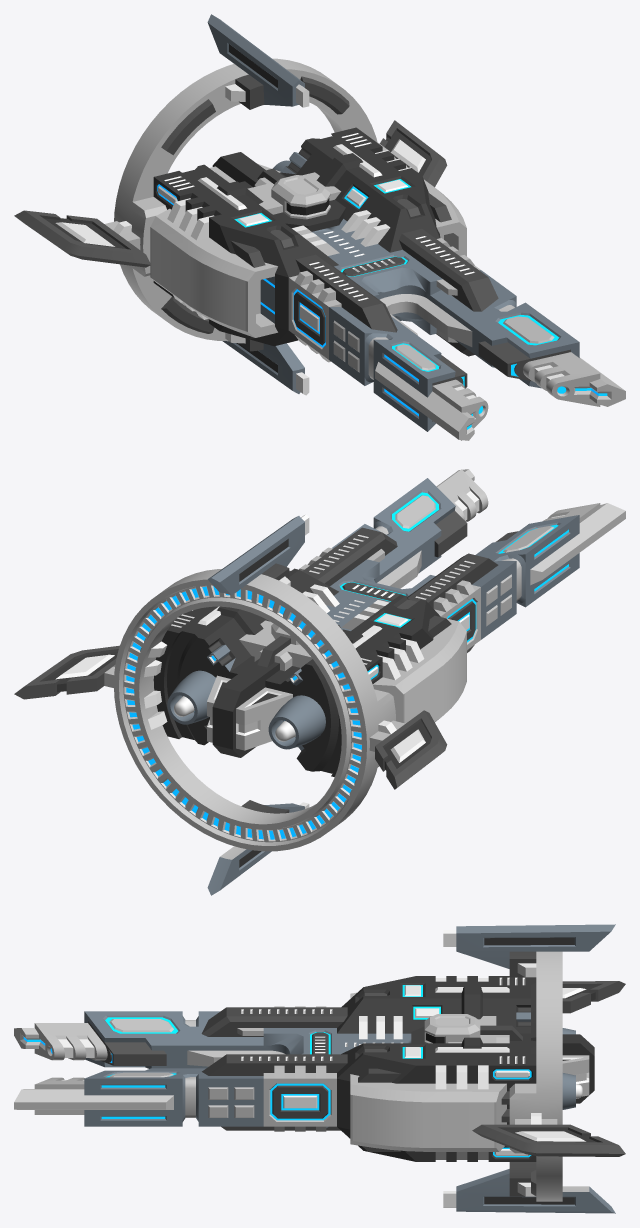
File: Carrier05.fbx
3 renders of one model, top to bottom at view 1: azimuth 30°, elevation 25°; view 2: azimuth 150°, elevation 25°; view 3: azimuth 270°, elevation 25°, orthographic. The views are drawn at different scales.
Parts seen in each view (by area): view 1: Mesh_HD; view 2: Mesh_HD; view 3: Mesh_HD.
Boxes of the visible parts, <box> form: Mesh_HD: <box>14,14,625,440</box>; Mesh_HD: <box>14,469,625,895</box>; Mesh_HD: <box>14,924,625,1213</box>.
Bounding box in the file's own units: 1059 × 840 × 1612.
